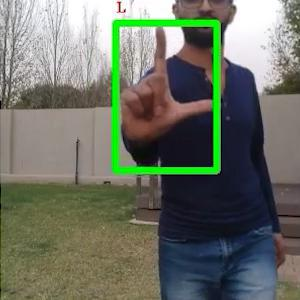land_hand: (116, 25, 222, 147)
